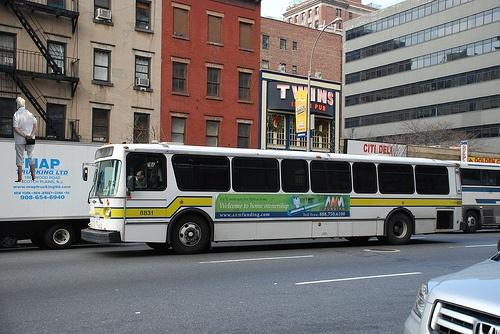tampered: (14, 98, 37, 182)
